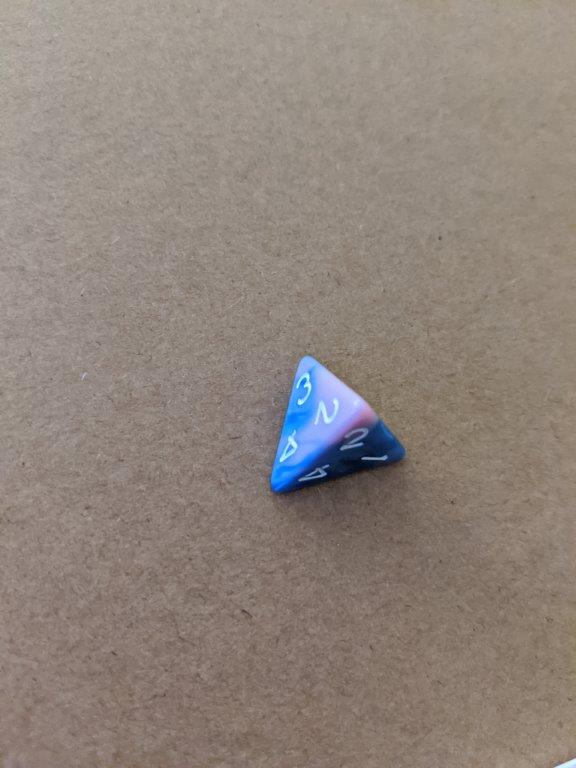d4-2: (262, 350, 409, 496)
